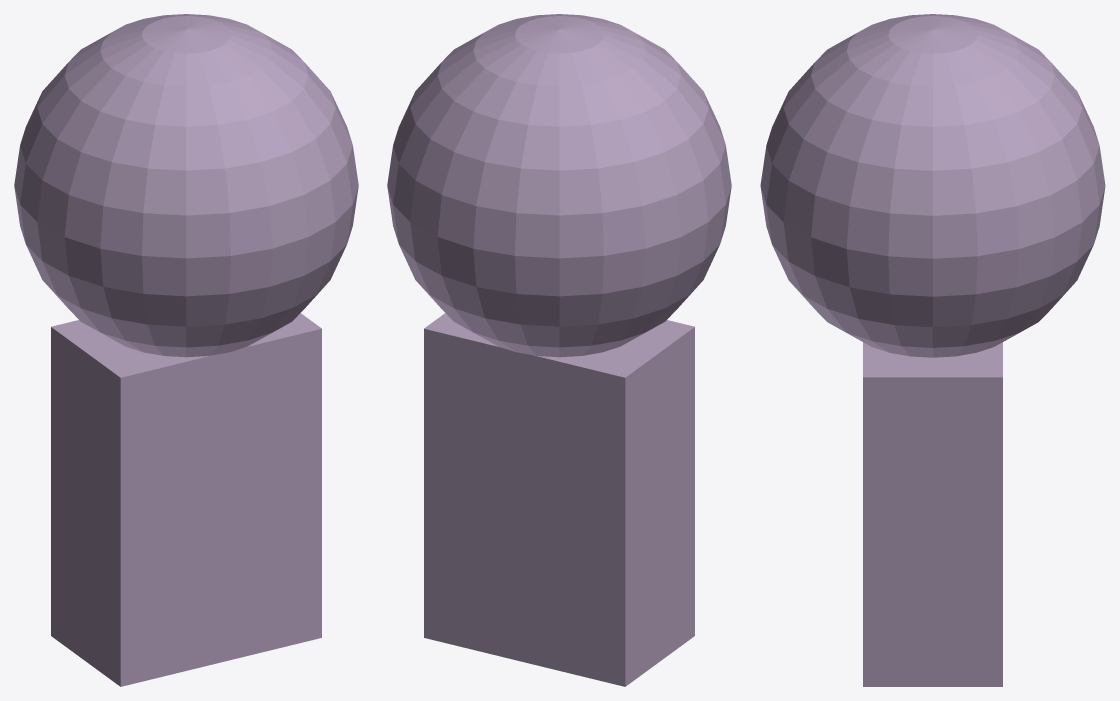
Rendered from oddity_0007.glb.
3 renders of one model, left to right at view 1: azimuth 30°, elevation 25°; view 2: azimuth 150°, elevation 25°; view 3: azimuth 270°, elevation 25°, orthographic.
Parts seen in each view (by area): view 1: oddity_0007_Sphere, oddity_0007_Cube; view 2: oddity_0007_Sphere, oddity_0007_Cube; view 3: oddity_0007_Sphere, oddity_0007_Cube.
Boxes of the visible parts, <box> form: oddity_0007_Sphere: <box>14,14,358,357</box>; oddity_0007_Cube: <box>51,313,321,686</box>; oddity_0007_Sphere: <box>387,14,731,357</box>; oddity_0007_Cube: <box>424,313,694,686</box>; oddity_0007_Sphere: <box>760,14,1105,357</box>; oddity_0007_Cube: <box>863,342,1002,686</box>.
Bounding box in the file's own units: 0.2 × 0.389 × 0.2.
